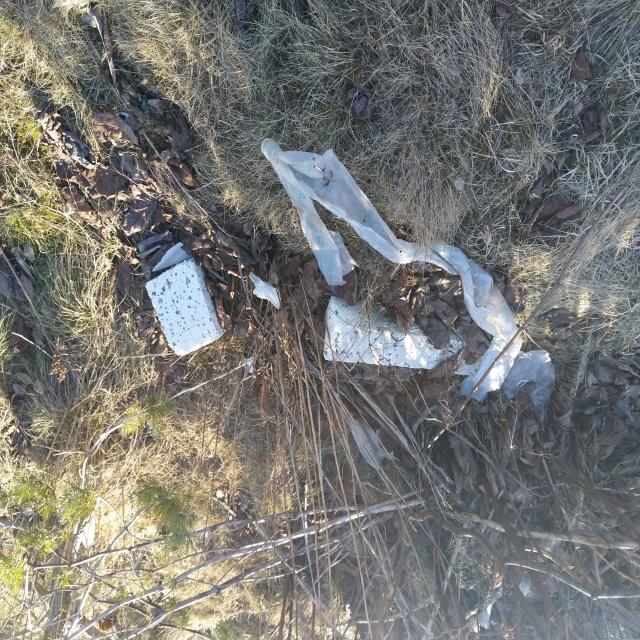Other plastic bottle: (153, 242, 194, 272)
Plastic film: (261, 138, 522, 401), (502, 350, 555, 420), (349, 415, 400, 470), (248, 272, 280, 310), (477, 596, 497, 629), (519, 578, 530, 596)
Styrofoam piece: (323, 296, 483, 375), (146, 259, 225, 356)
